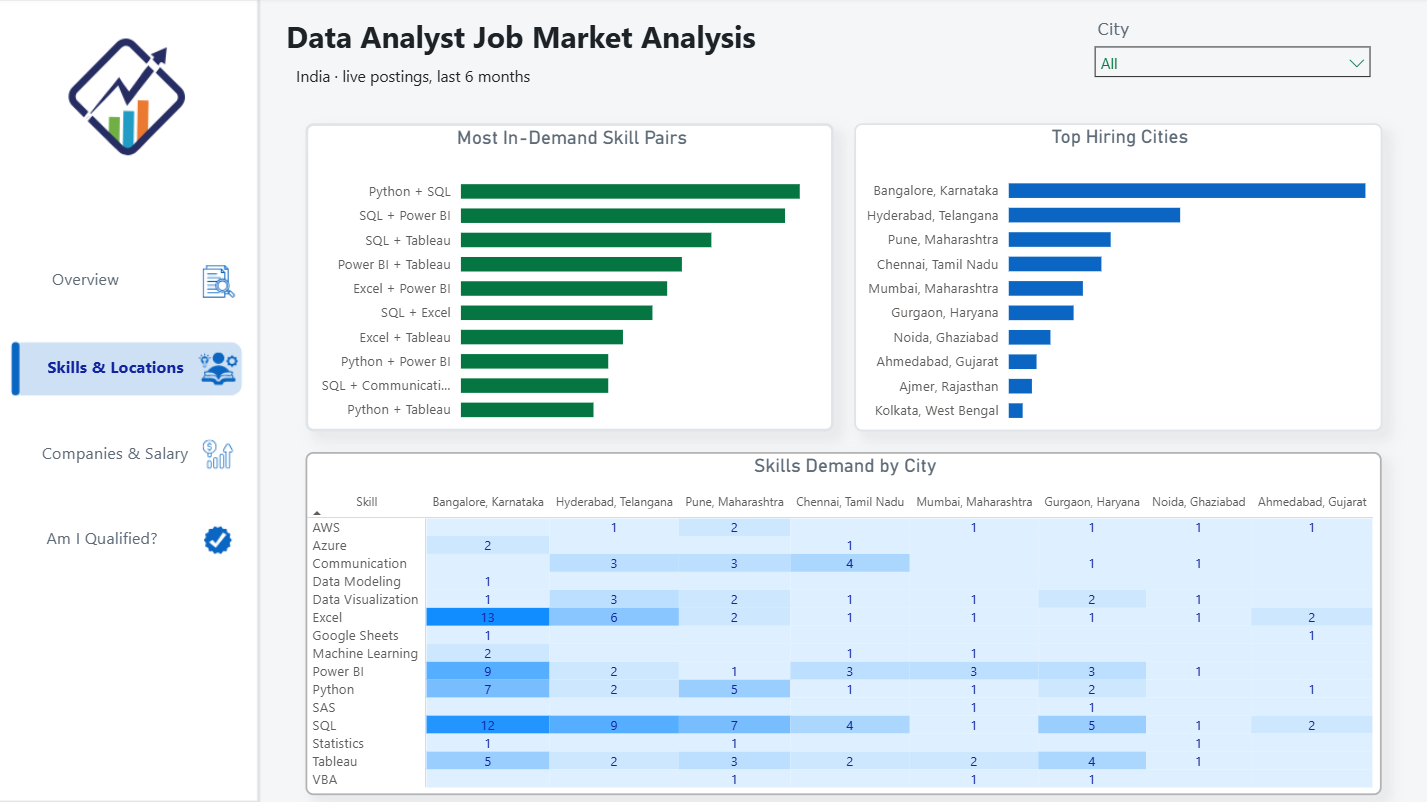

What the dashboard file says about the page in this screenshot:
{"tool":"powerbi","page":{"name":"Skills & Locations","canvas":[1280,720],"ordinal":1},"visuals":[{"type":"clusteredBarChart","title":"Top Hiring Cities","fields":{"Category":["job_data.location"],"Y":["_Measures.Job Count"]},"box":[767.1,112.5,470,274],"z":0},{"type":"pivotTable","title":"Skills Demand by City","fields":{"Rows":["skills_unpivoted.Skill"],"Values":["_Measures.Job Count"],"Columns":["job_data.location"]},"box":[278.5,404.9,958.3,305.5],"z":1000},{"type":"clusteredBarChart","title":"Most In-Demand Skill Pairs","fields":{"Y":["Sum(skill_combinations.Job_Count)"],"Category":["skill_combinations.Skill_Combo"]},"box":[278.6,112.5,470,274.4],"z":2000},{"type":"actionButton","box":[41.9,307,133.7,42.9],"z":3000},{"type":"actionButton","box":[34.9,386,148.5,36.8],"z":4000},{"type":"actionButton","box":[34.9,458.1,125.2,45.4],"z":5000},{"type":"actionButton","box":[41.9,231.4,80.2,37.2],"z":6000},{"type":"textbox","box":[256.4,12.3,510.4,57.7],"z":7000},{"type":"textbox","box":[265,55.2,235.6,31.9],"z":8000},{"type":"slicer","fields":{"Values":["job_data.location"]},"box":[970.6,14.7,266.3,72.4],"z":9000}]}

Visuals, with their boxes on the page's 1280x720 design canvas (x1, y1, x2, y2). These are canvas units, not pixel positions in the 1427x802 screenshot, which may show the page scaled, cropped or inside an application window:
"Top Hiring Cities" clusteredBarChart: 767, 112, 1237, 386
"Skills Demand by City" pivotTable: 278, 405, 1237, 710
"Most In-Demand Skill Pairs" clusteredBarChart: 279, 112, 749, 387
actionButton: 42, 307, 176, 350
actionButton: 35, 386, 183, 423
actionButton: 35, 458, 160, 504
actionButton: 42, 231, 122, 269
textbox: 256, 12, 767, 70
textbox: 265, 55, 501, 87
slicer - job_data.location: 971, 15, 1237, 87
